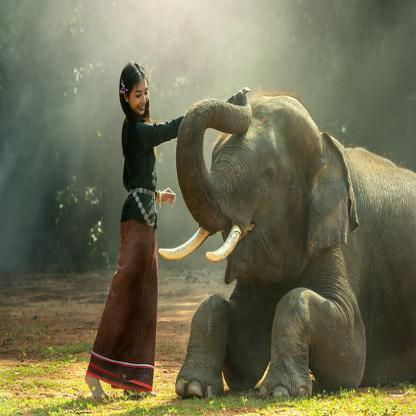elephant: (174, 91, 416, 403)
